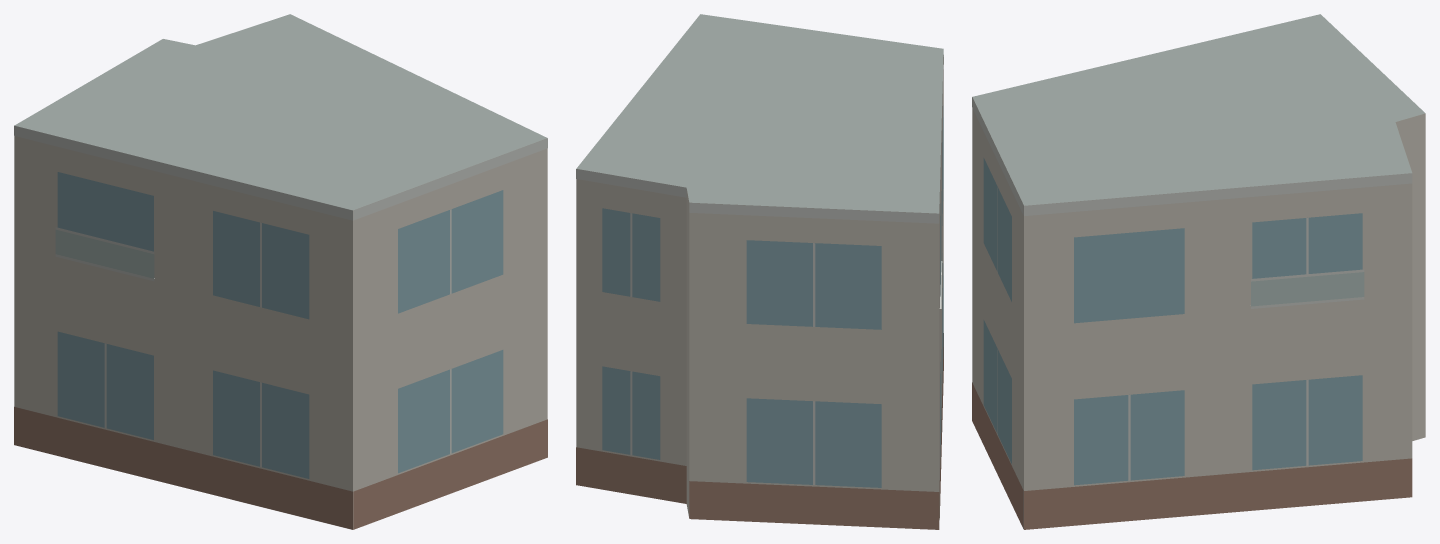
The model's file is survey-upis-32926643.glb.
3 views of the same model, side by side, from view 1: azimuth 30°, elevation 25°; view 2: azimuth 150°, elevation 25°; view 3: azimuth 270°, elevation 25° (orthographic). The views are drawn at different scales.
Visible parts, largest first — view 1: survey-upis-32926643.tmp; view 2: survey-upis-32926643.tmp; view 3: survey-upis-32926643.tmp.
Boxes of the visible parts, x1,y1,x2,y2 form: survey-upis-32926643.tmp: (14,14,547,529); survey-upis-32926643.tmp: (576,14,943,529); survey-upis-32926643.tmp: (972,14,1425,529).
Size of the model in its own units: 9.66 by 7.6 by 9.65.
